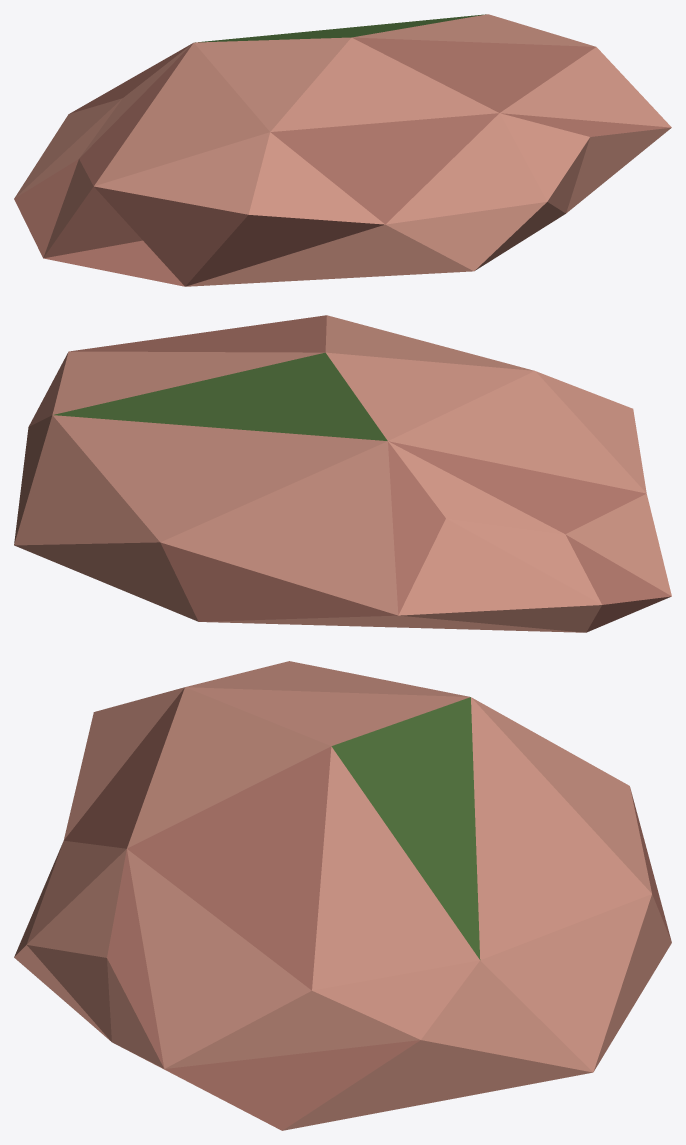
Rendered from hall_5.glb.
3 views of the same model, one above another, from view 1: azimuth 30°, elevation 25°; view 2: azimuth 150°, elevation 25°; view 3: azimuth 270°, elevation 25° (orthographic). The views are drawn at different scales.
Parts seen in each view (by area): view 1: hall_5; view 2: hall_5; view 3: hall_5.
Boxes of the visible parts, box(x1,y1,x2,y2) form: hall_5: box(14, 14, 671, 286); hall_5: box(14, 315, 671, 632); hall_5: box(14, 661, 671, 1130).
Size of the model in its own units: 3.85 by 0.9628 by 2.78.
